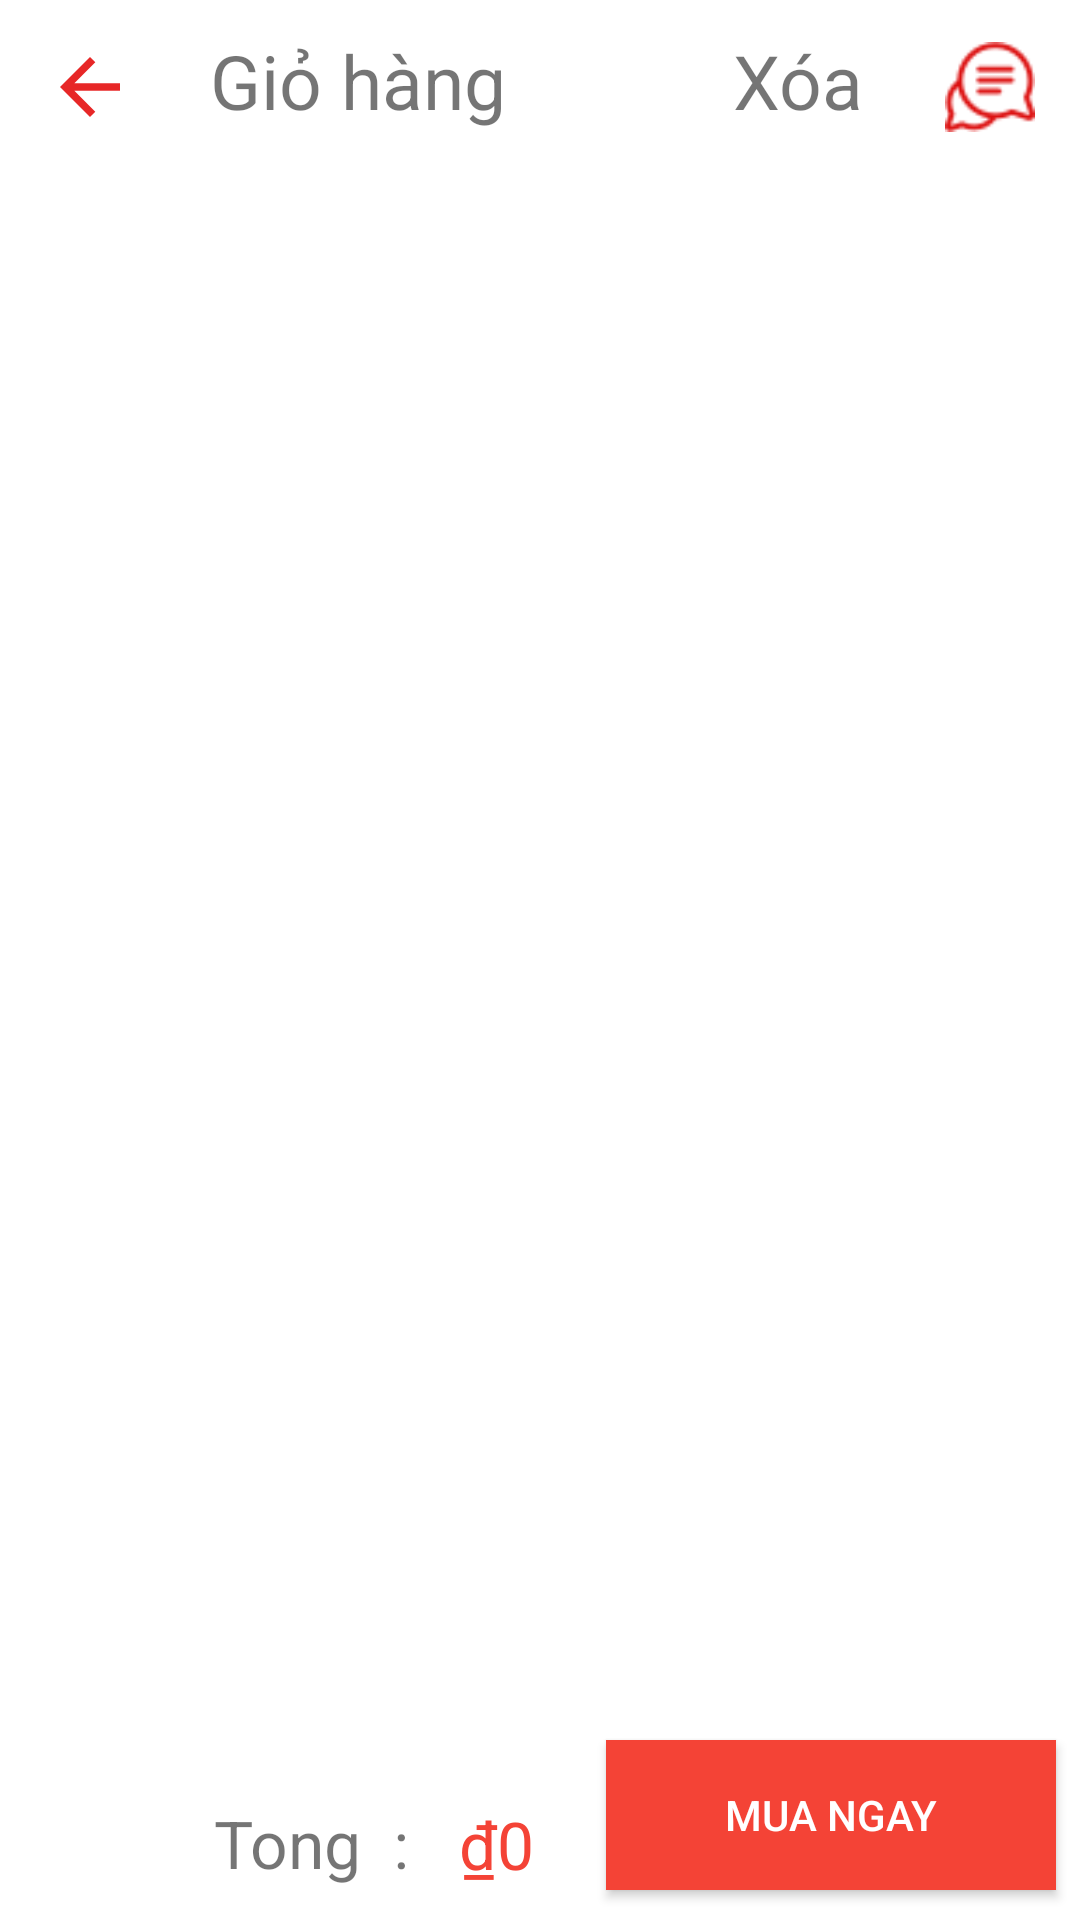

Named icons in this screenshot (1080w x 1920h) and their bounding boxes, (x1, y1, x2, y2):
arrow back: (60, 57, 120, 117)
conversation: (945, 42, 1035, 132)
